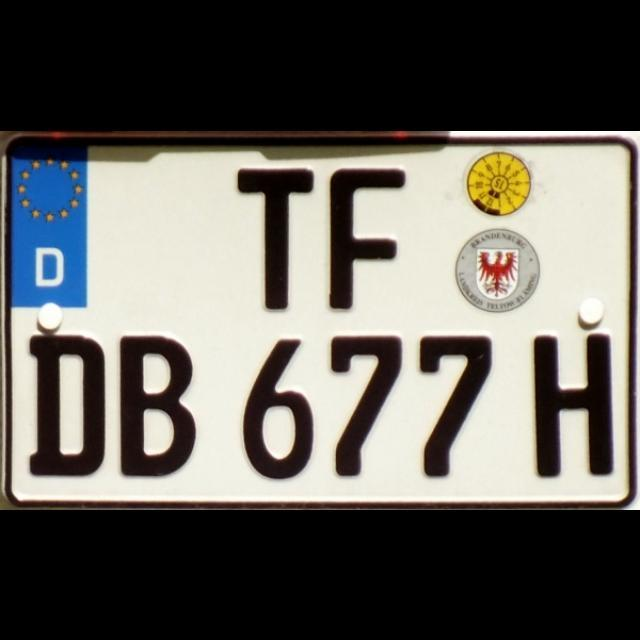license-plates: (0, 133, 640, 510)
